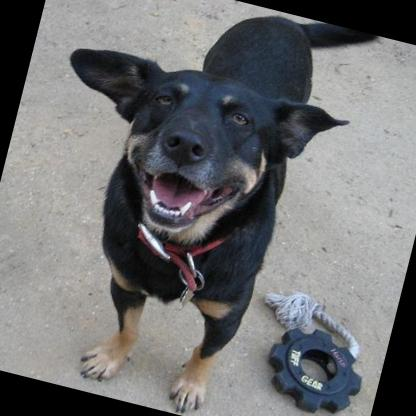kelpie: (0, 0, 379, 416)
